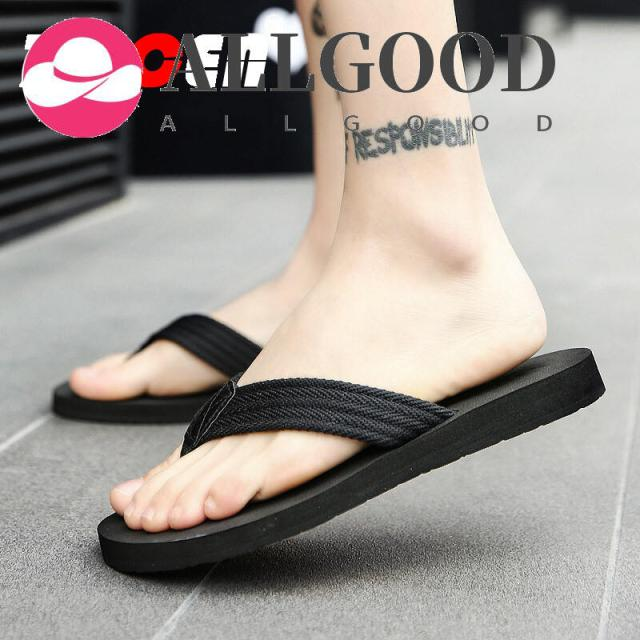Sandals: (97, 264, 597, 558)
